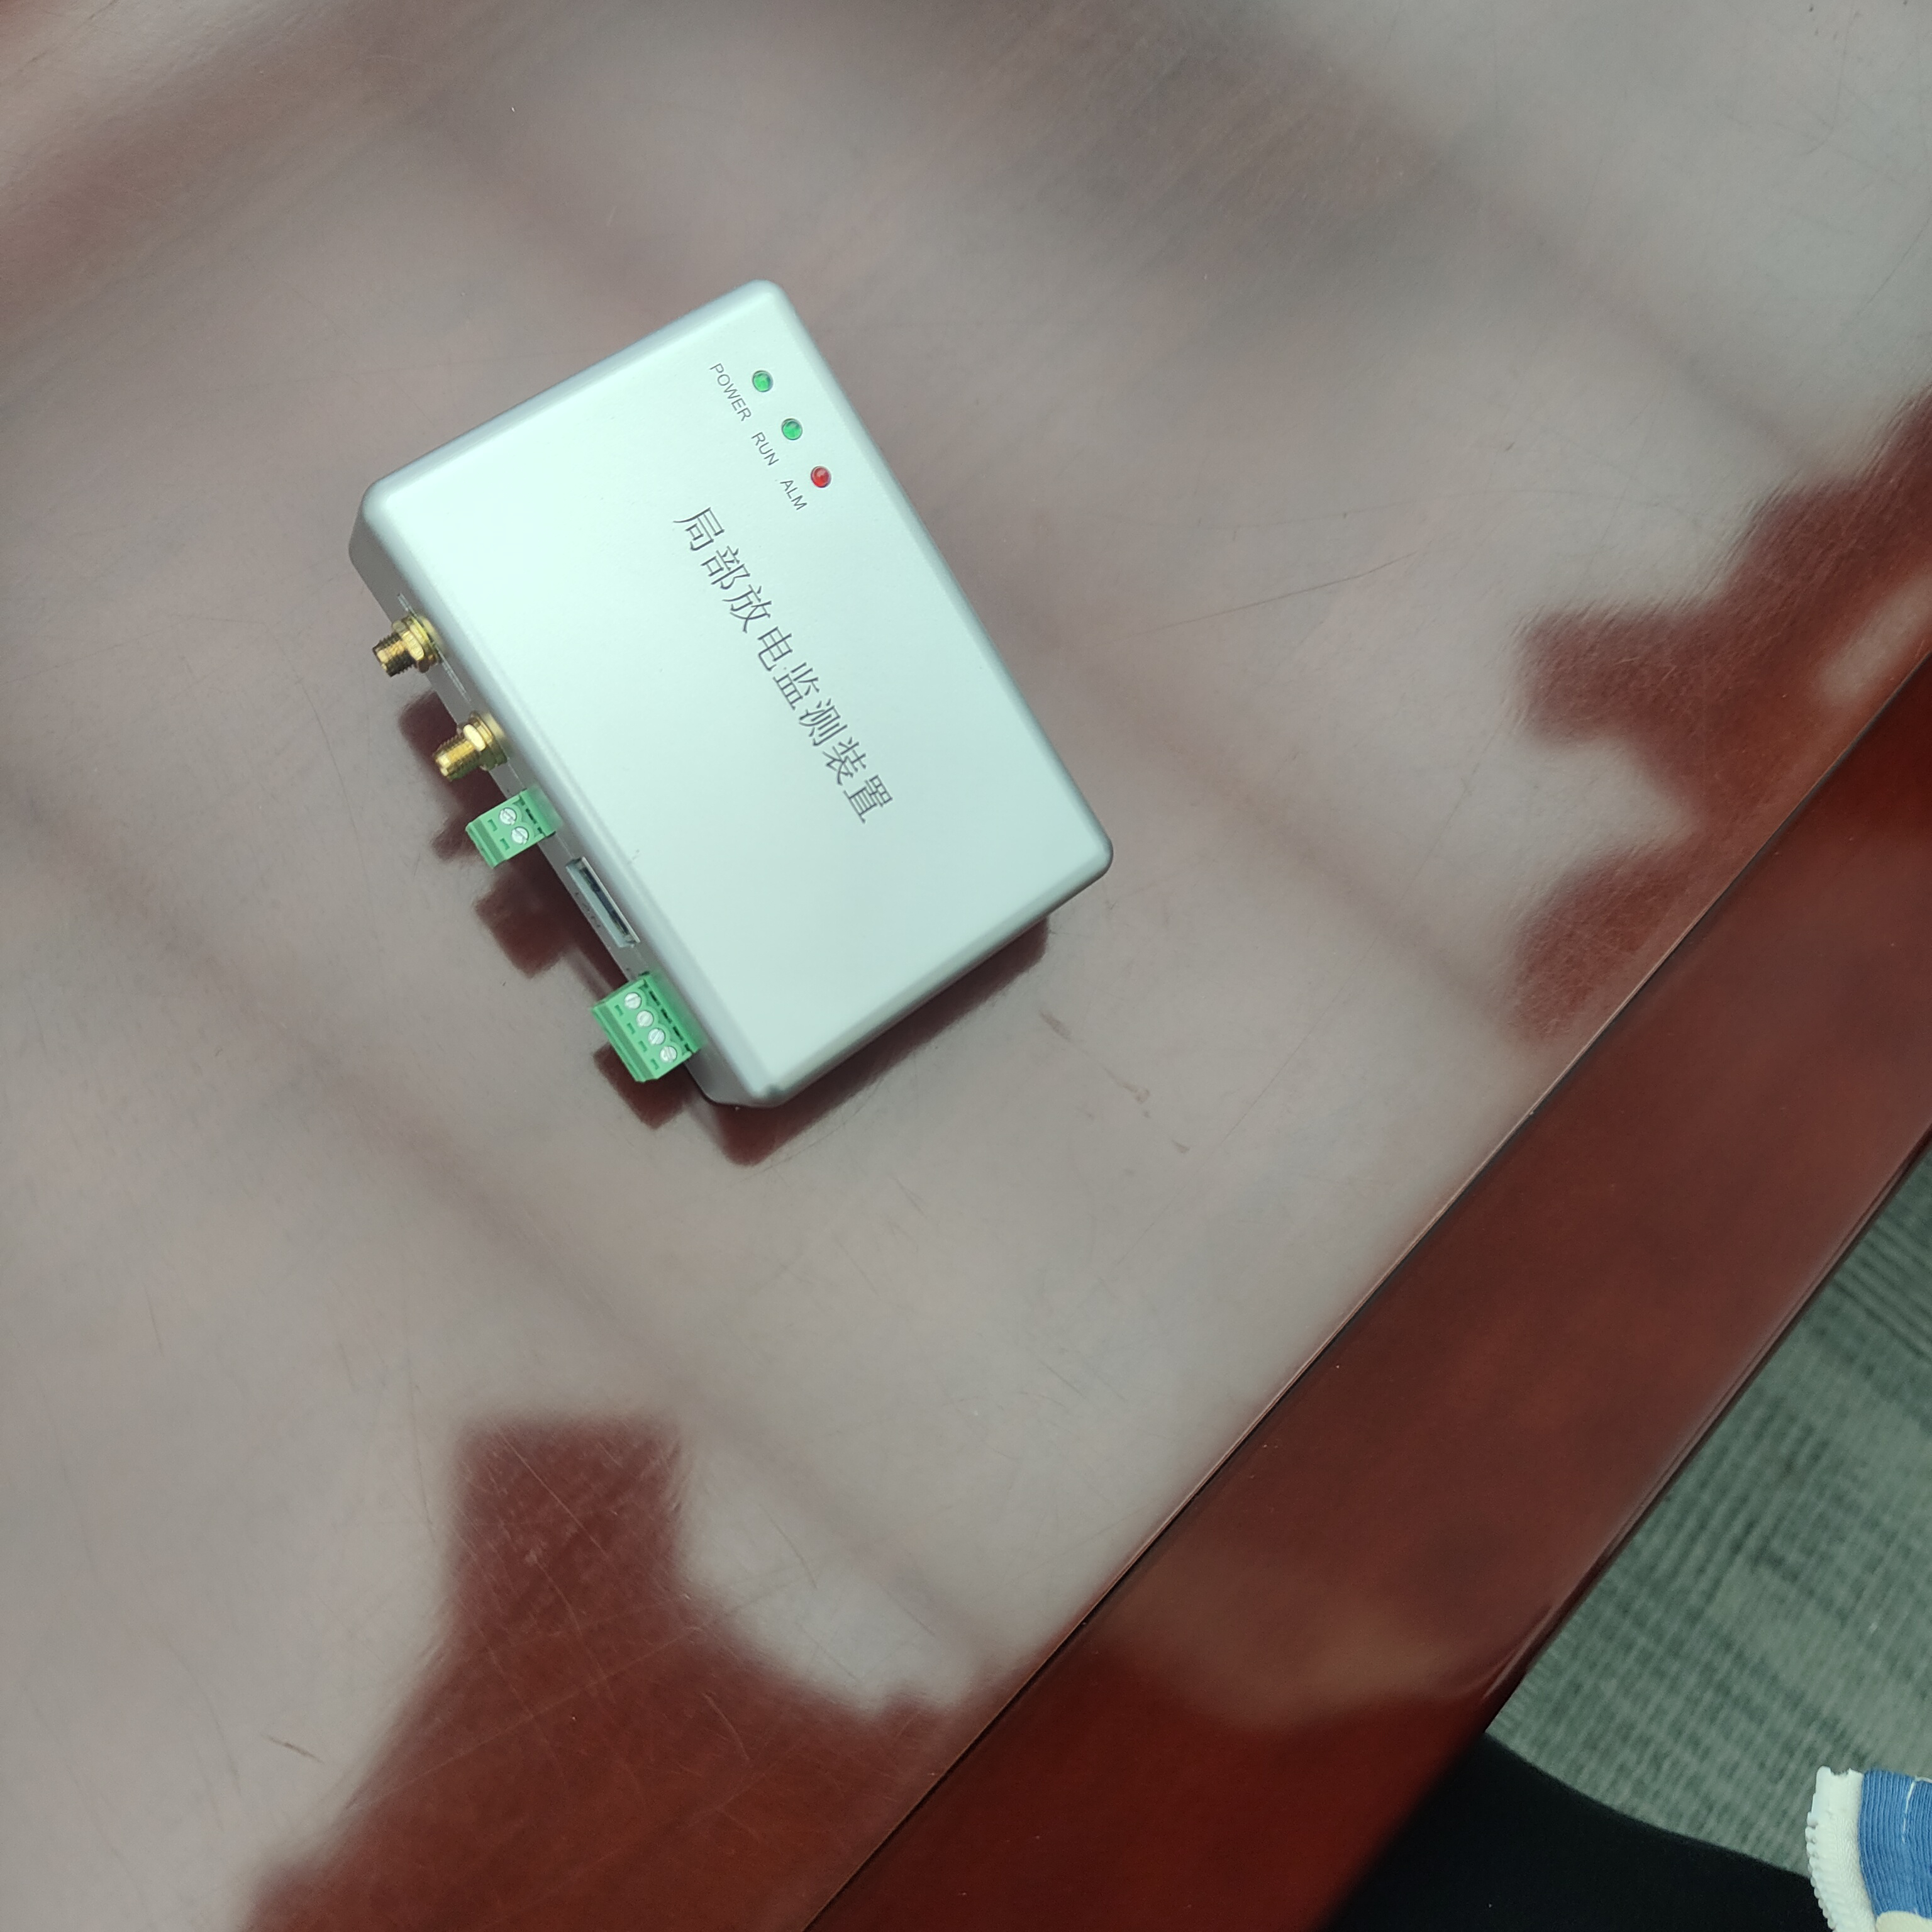jbfdjc: (347, 280, 1134, 1177)
